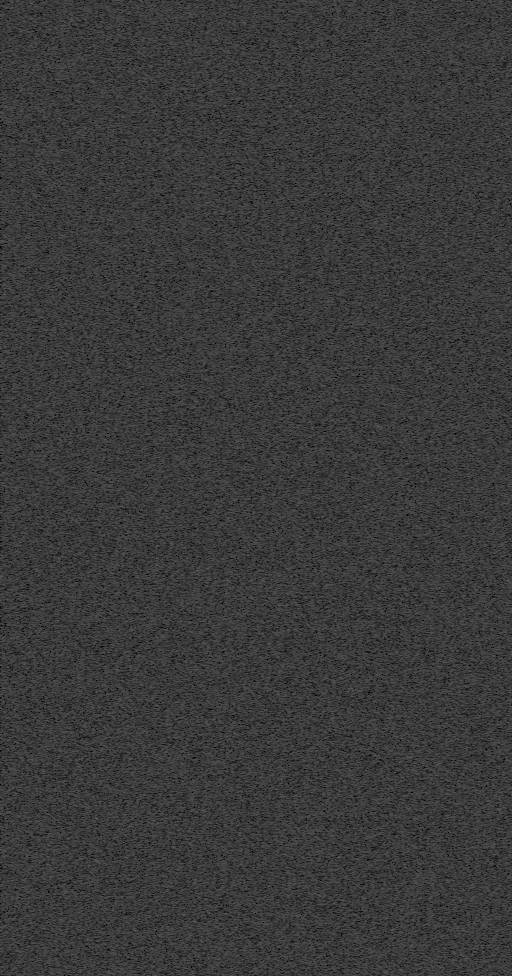wv_am: (33, 1, 39, 976), (304, 1, 309, 976), (78, 1, 83, 976), (398, 1, 403, 334), (398, 589, 403, 867), (398, 336, 403, 586), (398, 869, 403, 959), (398, 961, 403, 976)
wv_cw: (322, 1, 327, 976)
wv_lsb: (45, 9, 52, 976), (343, 564, 348, 721), (343, 722, 348, 857), (343, 439, 348, 523), (343, 524, 348, 563), (343, 858, 348, 889), (342, 156, 348, 178), (343, 386, 347, 413), (343, 414, 347, 438), (343, 900, 347, 924), (343, 312, 347, 331), (343, 349, 347, 367), (343, 203, 348, 216), (343, 276, 347, 288), (344, 942, 347, 956), (343, 302, 347, 311), (343, 242, 347, 251), (343, 890, 347, 899), (343, 370, 347, 376), (343, 342, 347, 348), (344, 185, 347, 193), (343, 380, 347, 385), (343, 333, 347, 338), (344, 957, 347, 963), (344, 179, 347, 184), (344, 925, 347, 930), (344, 936, 347, 940), (344, 964, 347, 967), (344, 295, 347, 298)
wv_usb: (58, 324, 62, 349), (57, 184, 62, 200), (58, 458, 62, 475), (57, 201, 62, 211), (58, 561, 61, 573), (58, 413, 62, 422), (58, 428, 61, 438), (58, 386, 61, 396), (58, 816, 62, 823), (58, 808, 62, 815), (58, 549, 61, 558), (58, 214, 62, 220), (58, 444, 62, 450), (58, 377, 61, 385), (58, 368, 62, 374), (58, 355, 61, 363), (58, 851, 61, 858), (58, 780, 61, 787), (58, 749, 61, 756), (58, 711, 61, 718), (58, 614, 61, 621), (58, 576, 61, 583), (58, 523, 61, 530), (58, 476, 61, 483), (58, 310, 61, 317), (58, 318, 62, 323), (58, 888, 61, 894), (58, 826, 61, 832), (58, 694, 61, 700), (58, 684, 61, 690), (58, 584, 61, 590), (58, 516, 61, 522), (58, 404, 61, 410), (58, 484, 62, 488), (58, 224, 61, 229), (58, 796, 61, 801), (58, 761, 61, 766), (58, 719, 61, 724), (58, 675, 61, 680), (58, 510, 61, 515), (58, 803, 61, 807), (58, 769, 61, 773), (58, 701, 61, 705), (58, 625, 61, 629), (58, 539, 61, 543), (58, 504, 61, 508), (58, 494, 61, 498), (58, 489, 61, 493), (58, 423, 61, 427), (58, 399, 61, 403), (58, 350, 61, 354), (58, 293, 61, 297), (58, 261, 61, 265), (58, 256, 61, 260), (58, 237, 61, 240), (58, 931, 61, 934), (58, 914, 61, 917), (58, 902, 61, 905), (58, 847, 61, 850), (58, 839, 61, 842), (58, 743, 61, 746), (58, 668, 61, 671), (58, 647, 61, 650), (58, 630, 61, 633), (58, 591, 61, 594), (58, 286, 61, 289), (58, 272, 61, 275)
